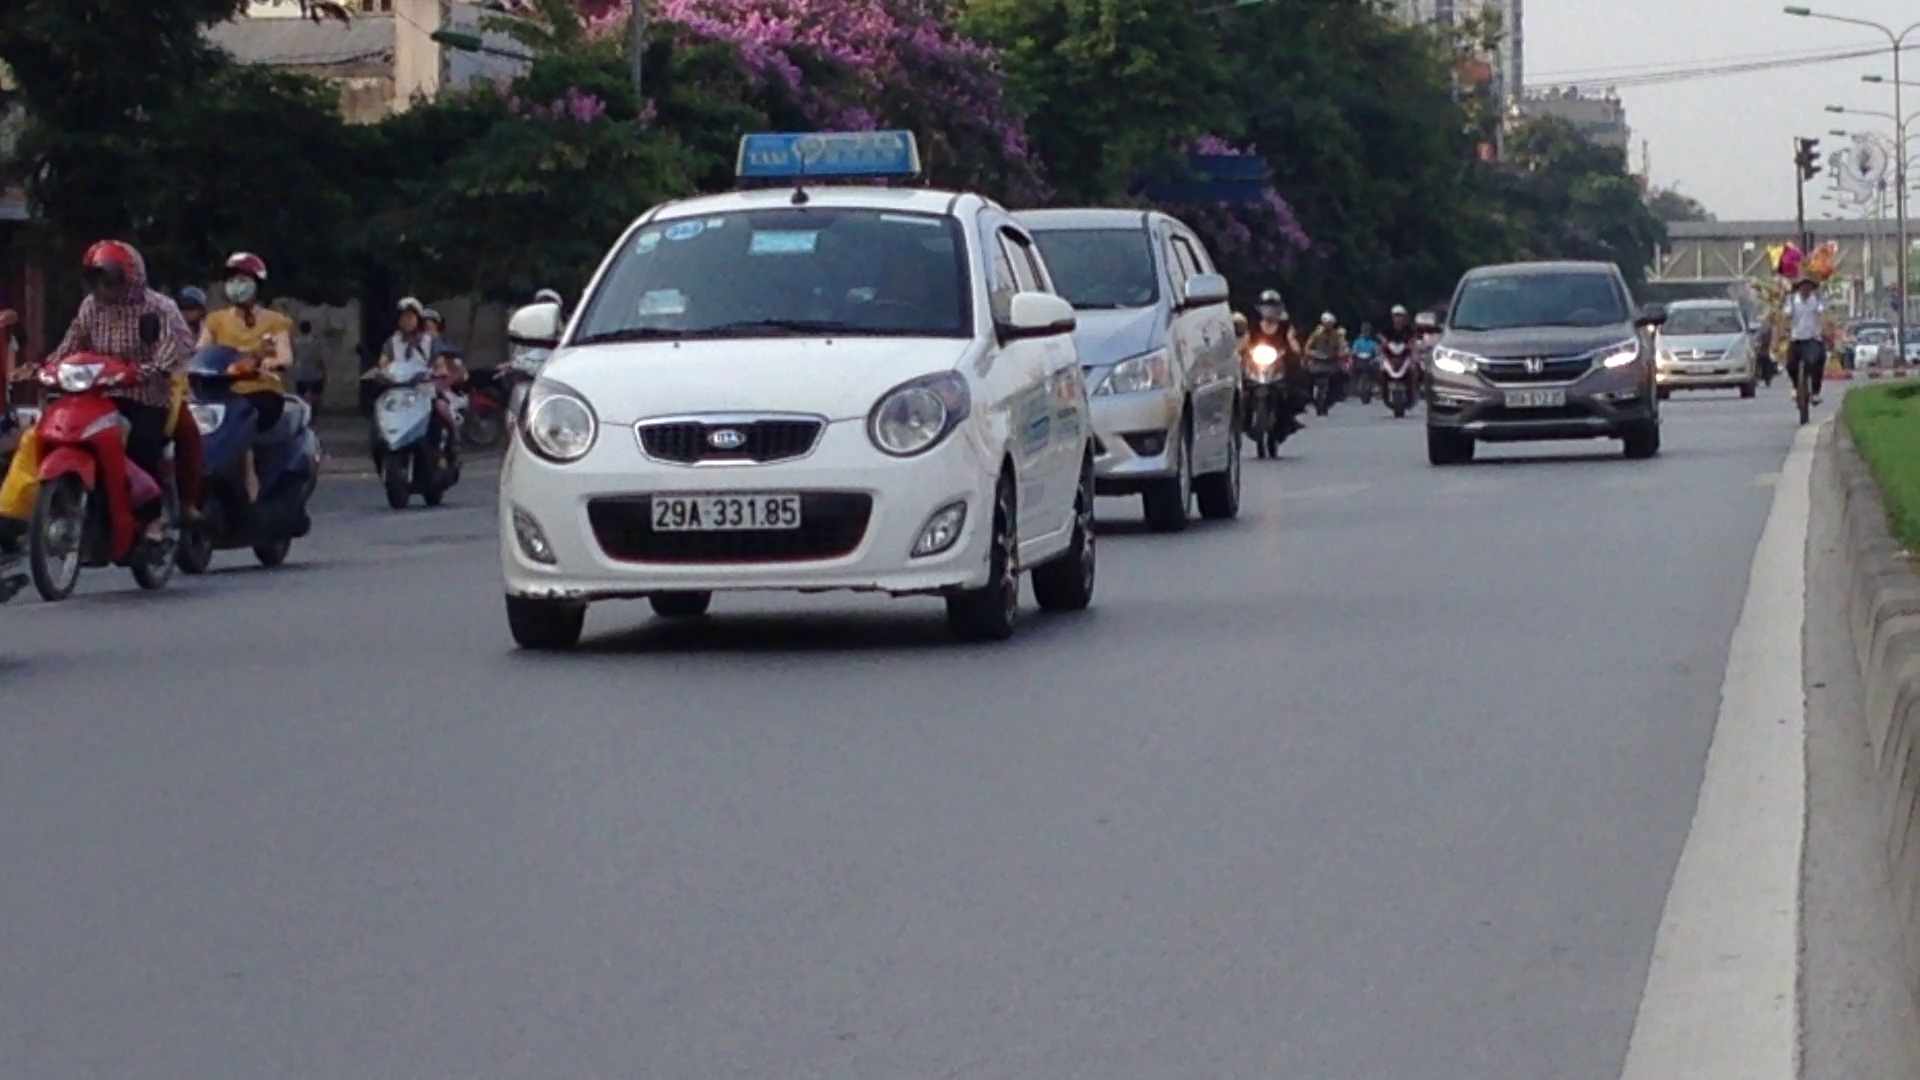vehicle-plate: (647, 490, 804, 530), (1500, 384, 1569, 411)
